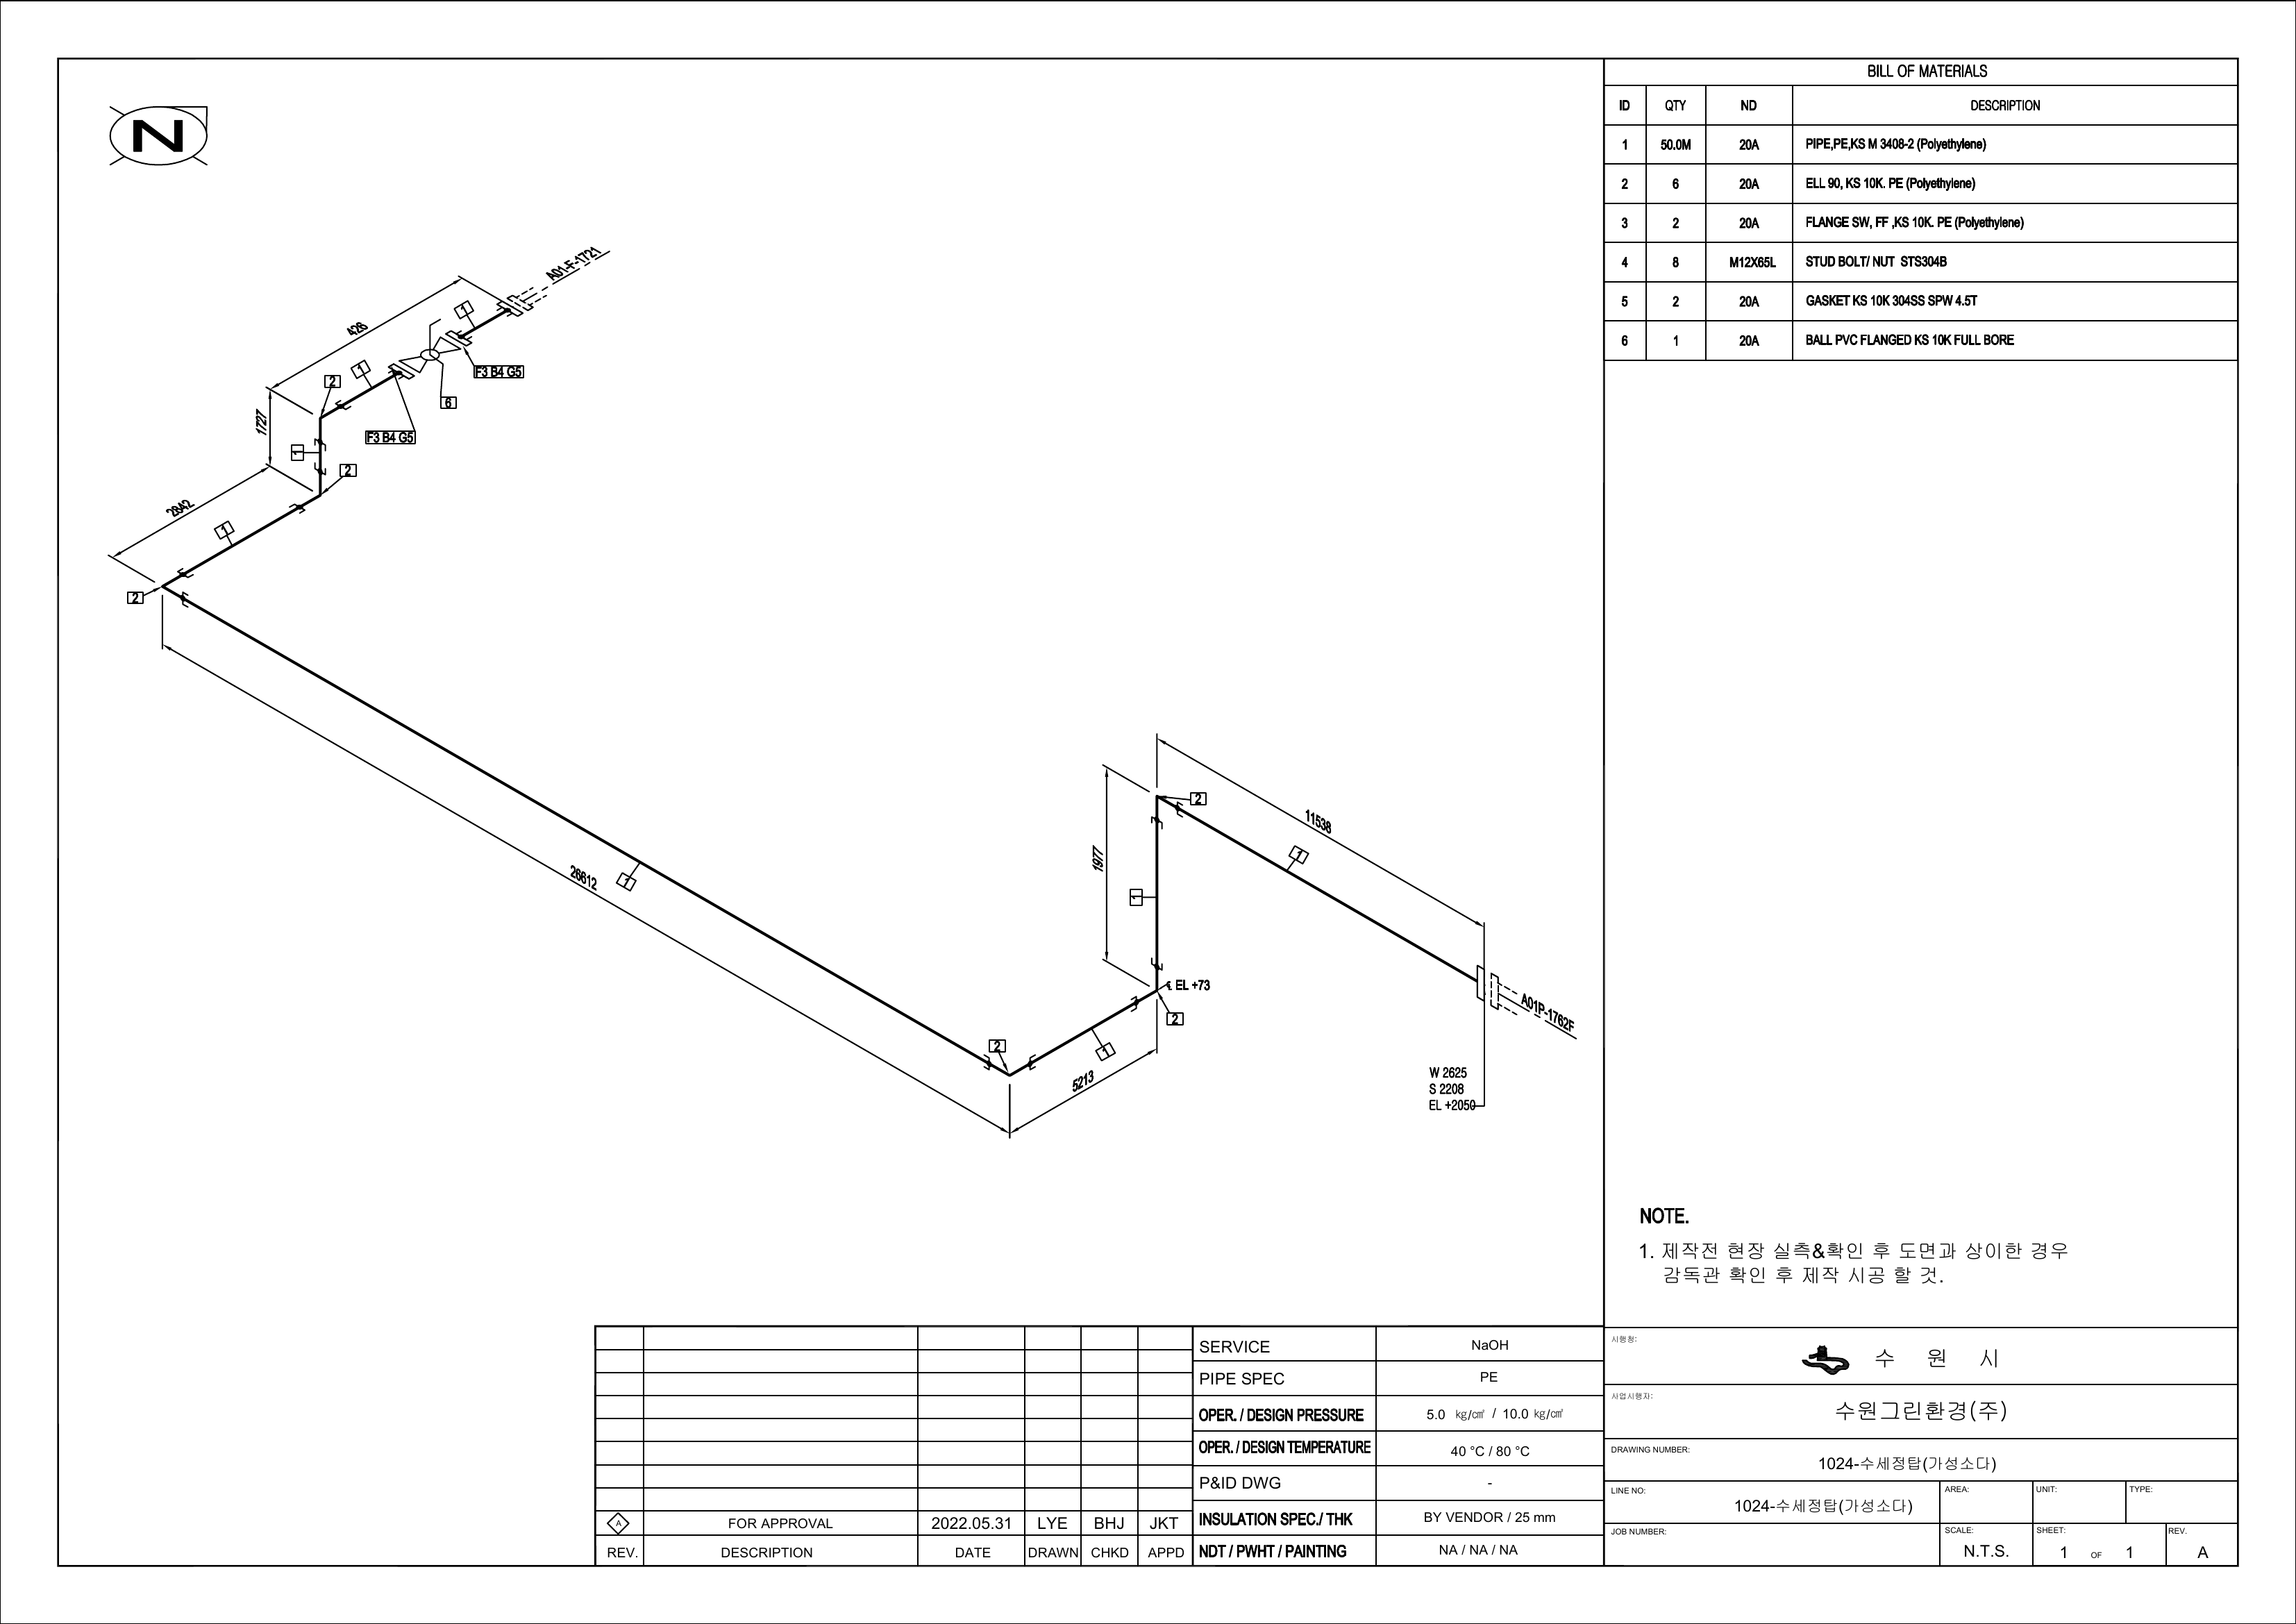table: (1602, 47, 2243, 369)
